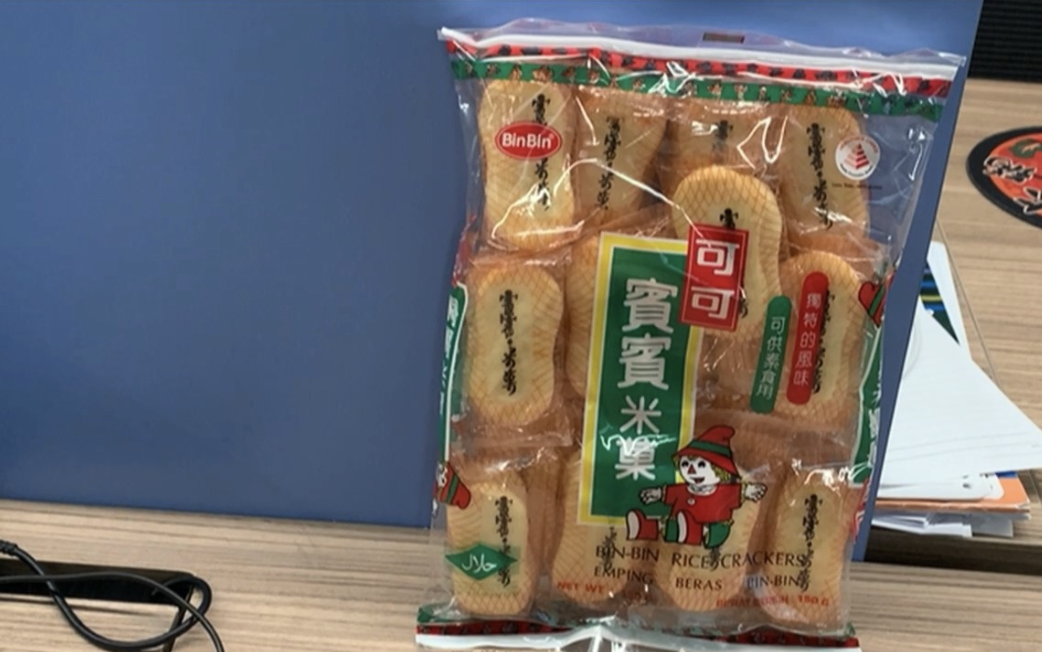crackers_150g: (463, 57, 857, 623)
